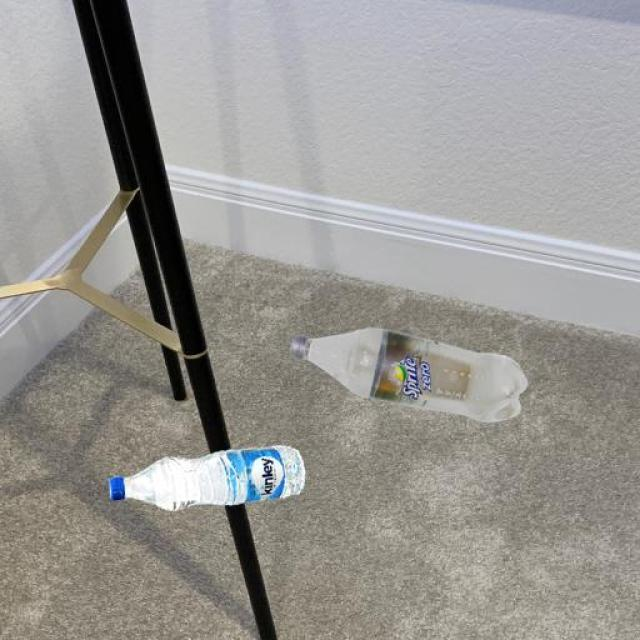bottle: (288, 325, 528, 424), (106, 442, 306, 512)
